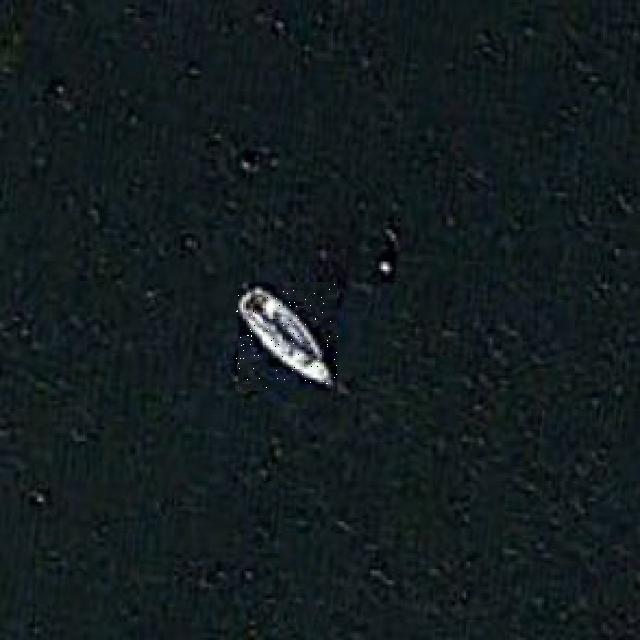boat: (235, 284, 340, 389)
